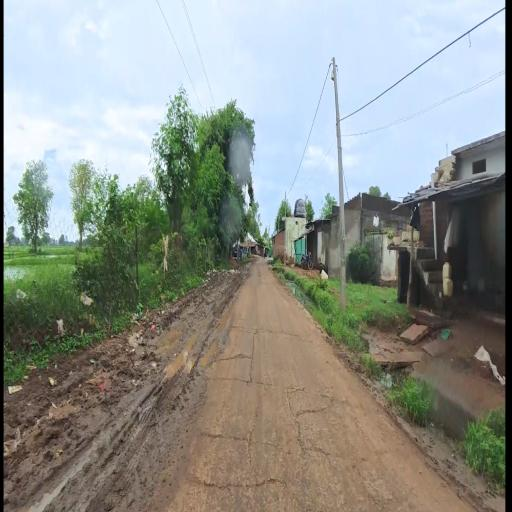drainage_issue: (369, 346, 493, 464)
longitudinal_crack: (200, 317, 384, 501)
